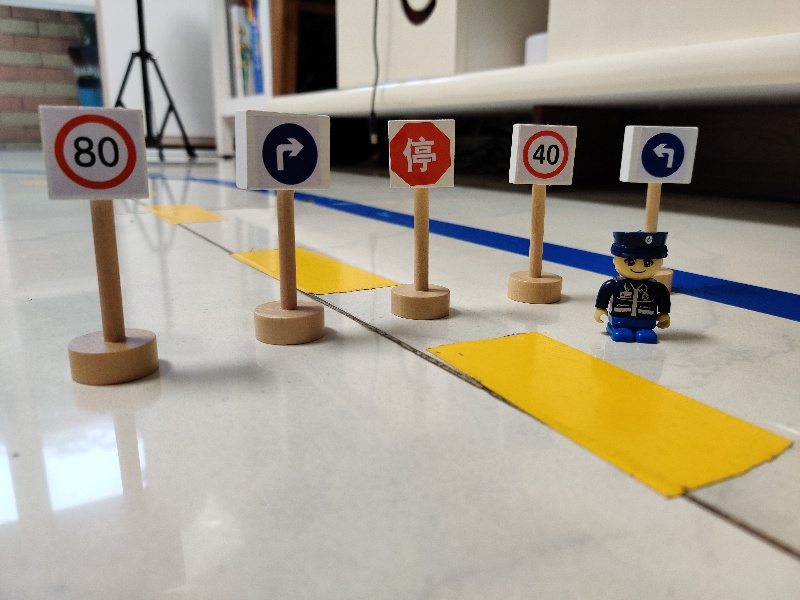limit_40: (507, 121, 577, 189)
limit_80: (36, 103, 152, 202)
person: (592, 230, 675, 347)
stop: (382, 119, 459, 189)
turn_left: (619, 124, 698, 185)
turn_right: (231, 107, 332, 193)
